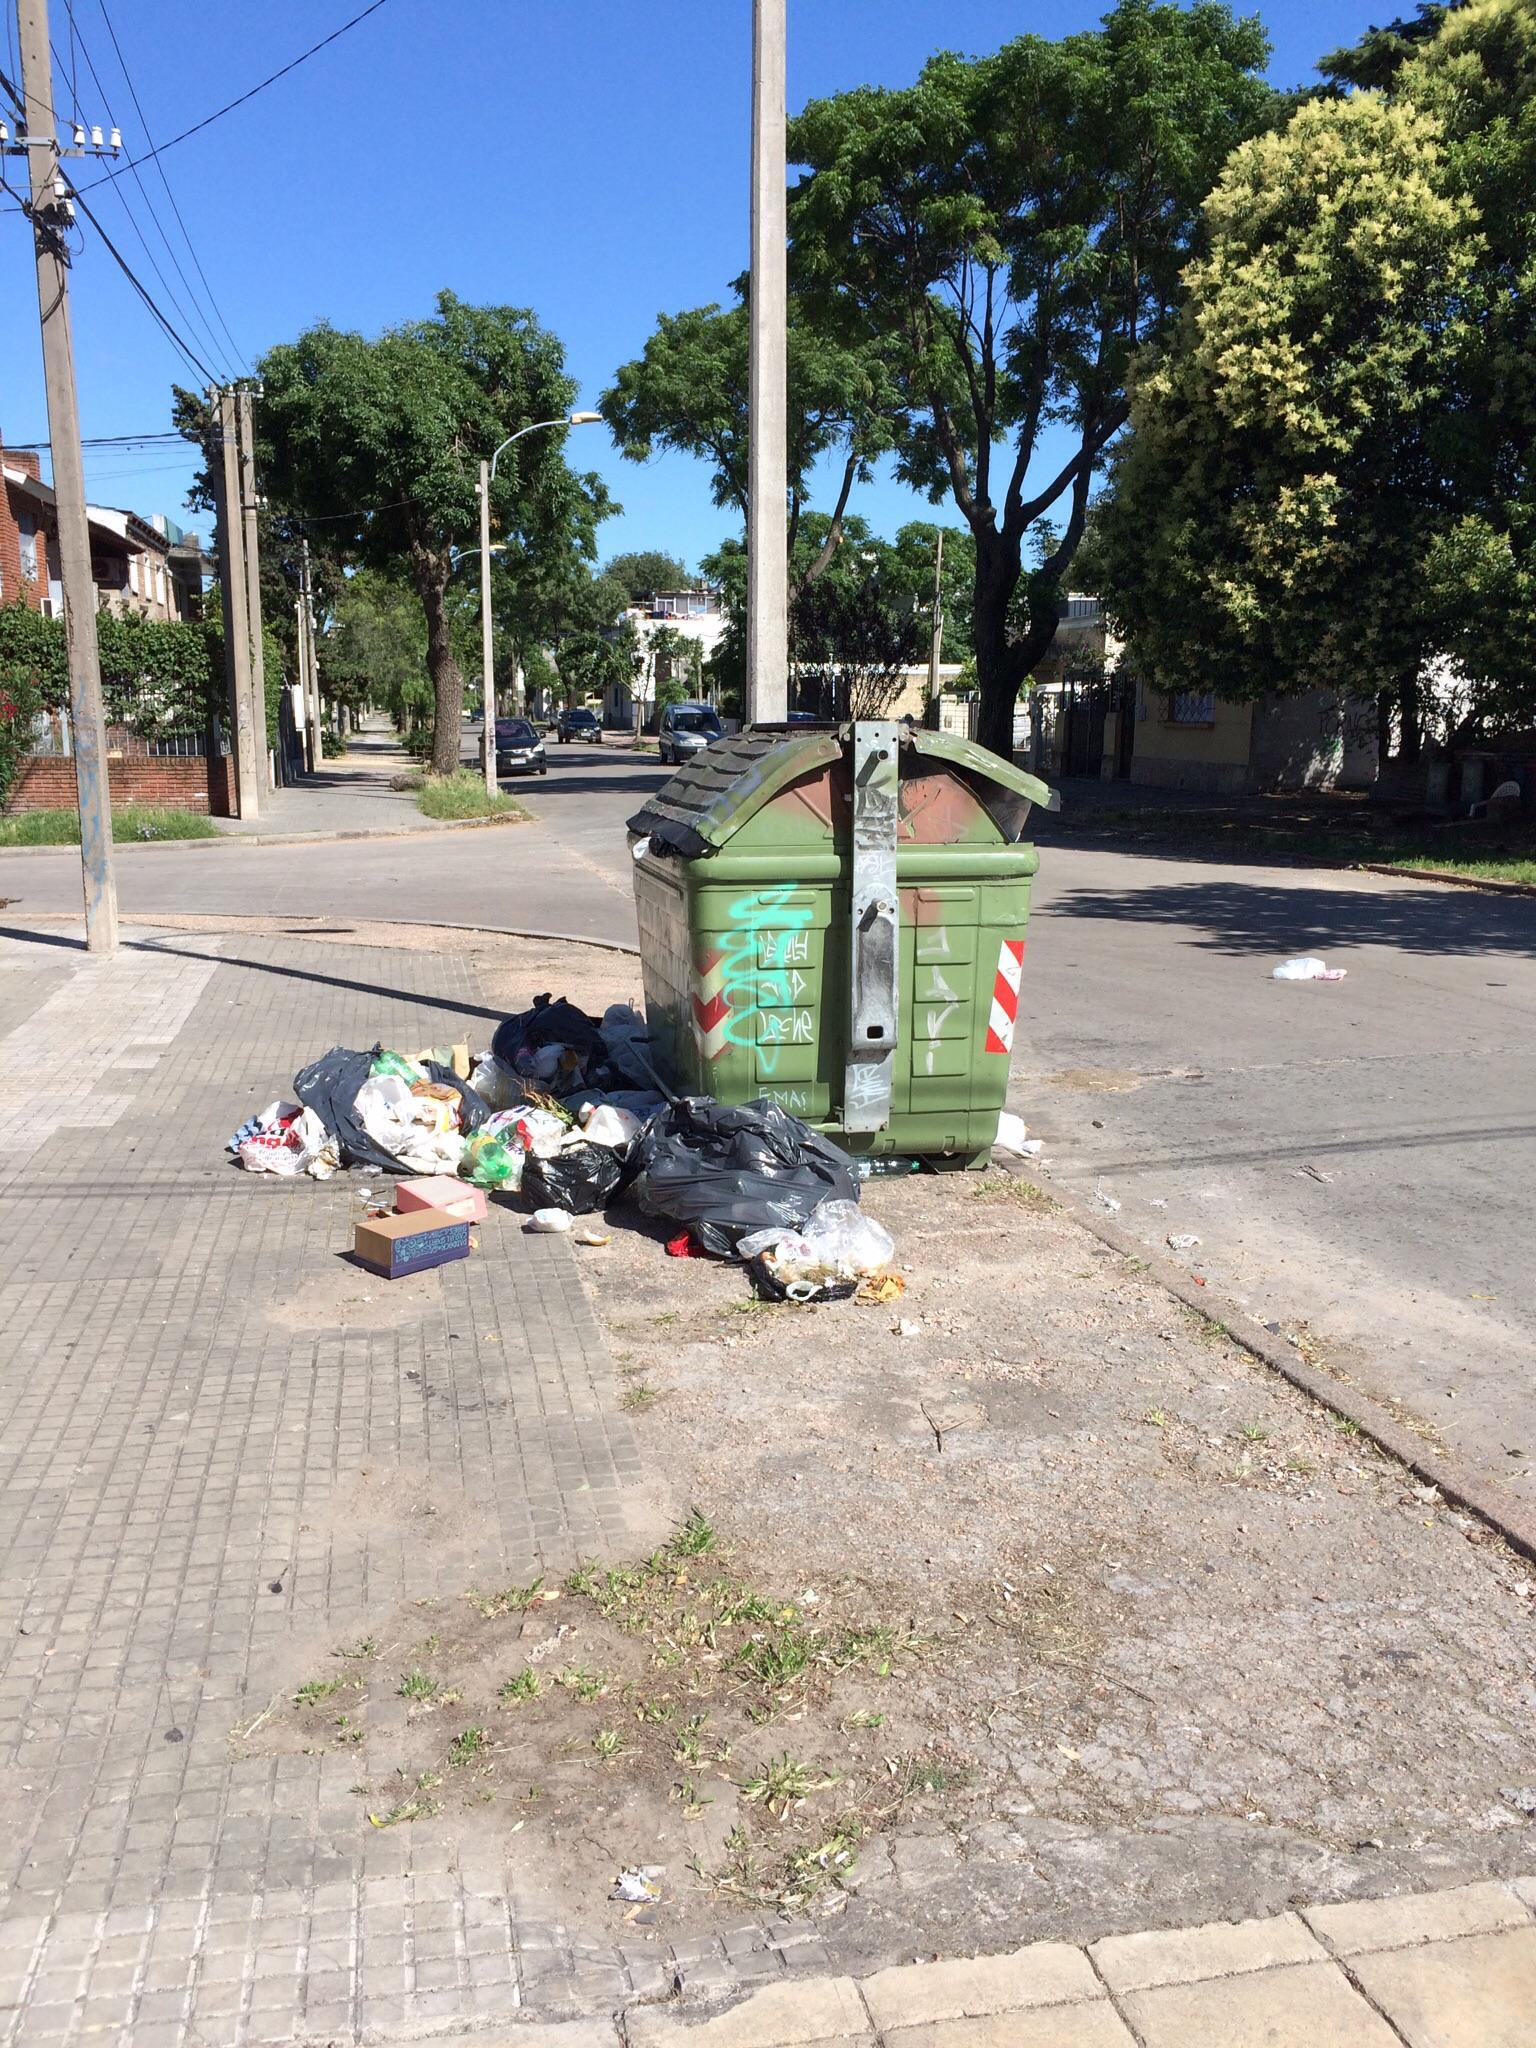Dechets: (594, 1103, 910, 1311), (294, 1047, 490, 1177), (455, 1103, 628, 1201), (492, 997, 653, 1097), (237, 1098, 361, 1195), (350, 1208, 473, 1290), (411, 1048, 547, 1113), (394, 1172, 499, 1221), (573, 1101, 647, 1153), (1000, 1109, 1049, 1163), (1276, 951, 1350, 984), (528, 1209, 576, 1237)
Trash: (634, 711, 1068, 1164)
